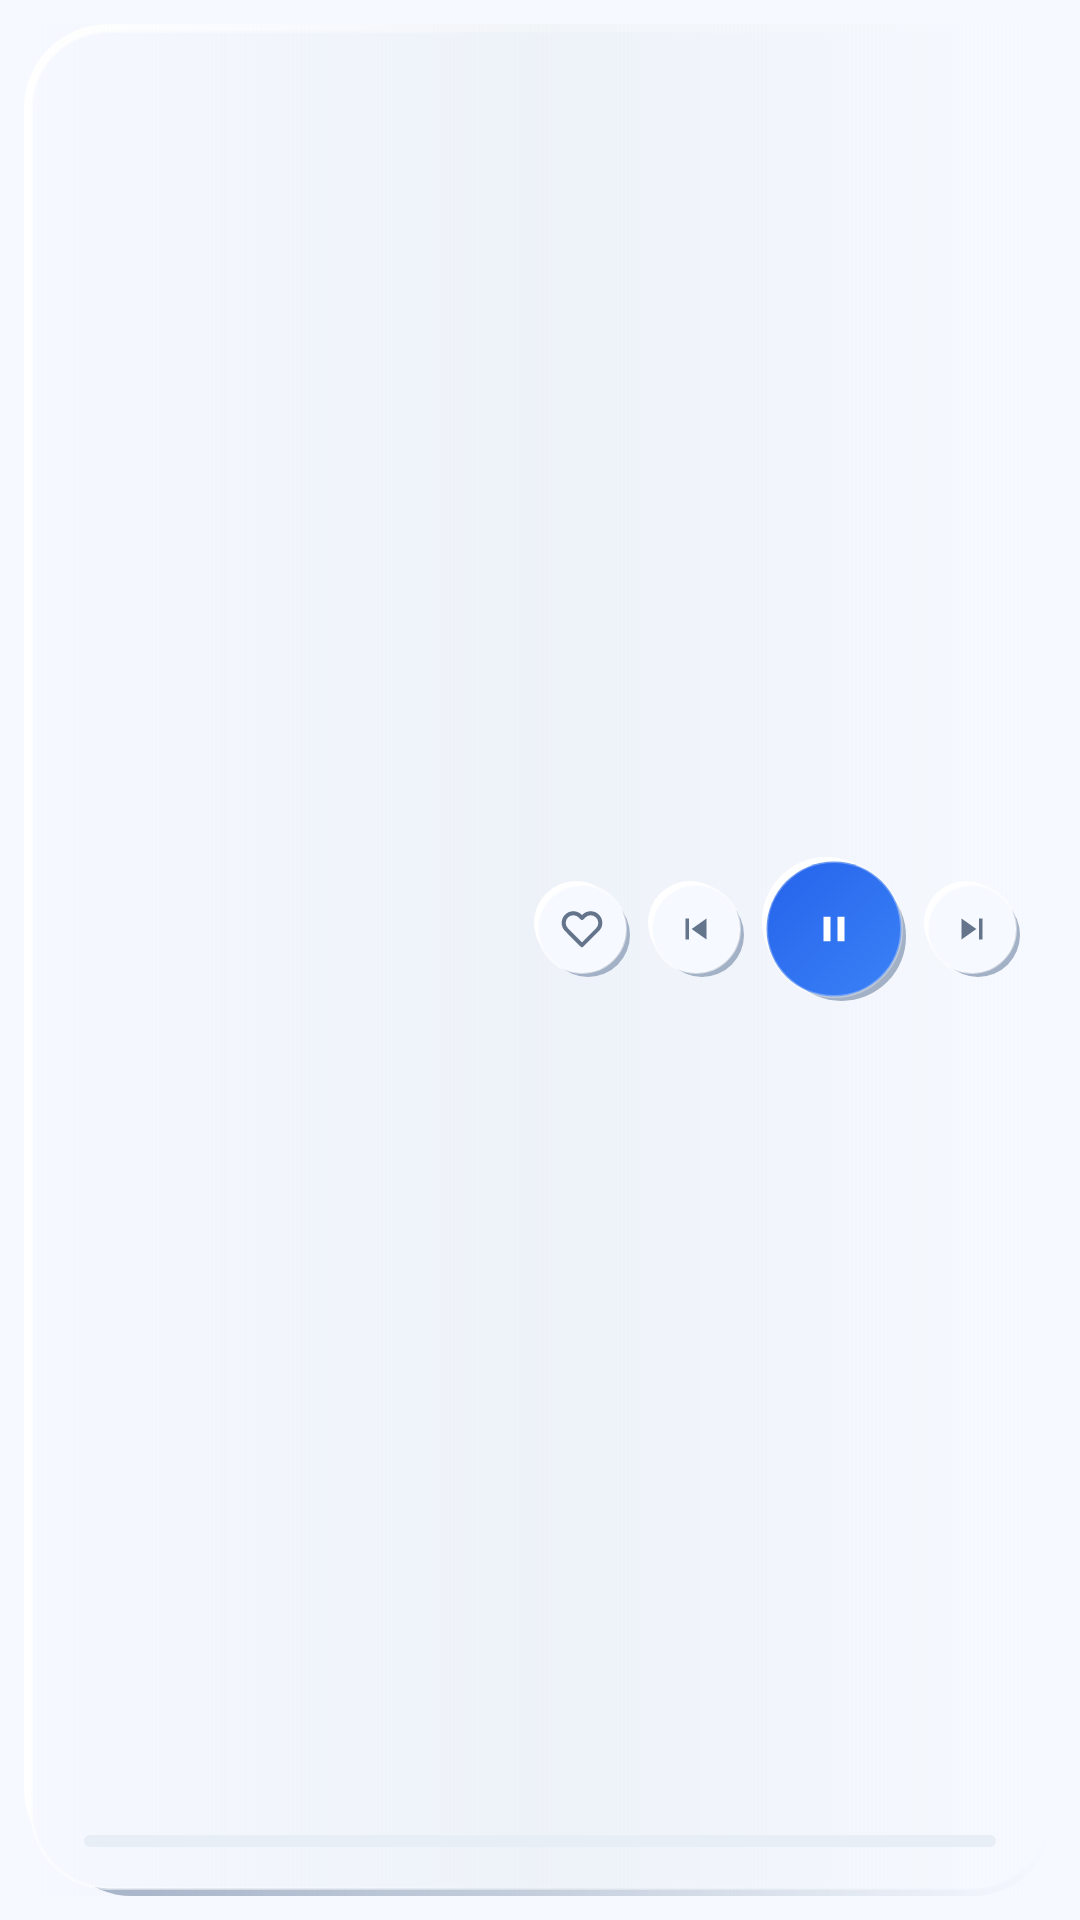

Screen size 1080px x 1920px. Icon name, then its box in pixels as (x1, y1, x2, y2):
neo heart: (561, 911, 630, 977)
neo pause: (766, 861, 906, 1001)
neo skip next: (956, 913, 1020, 977)
neo skip previous: (682, 913, 744, 977)
